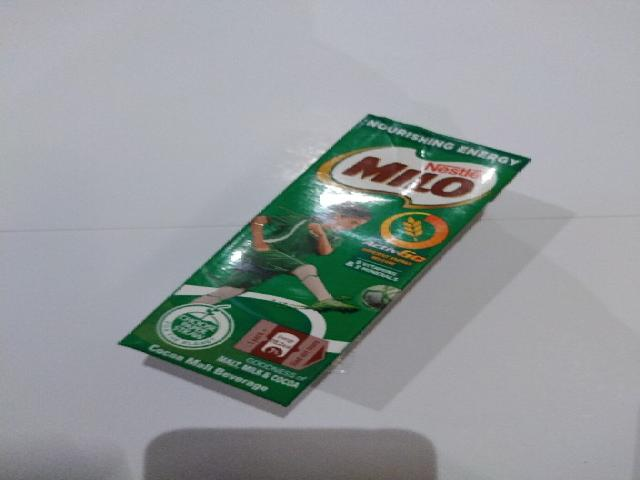drink_box: (120, 114, 528, 405)
